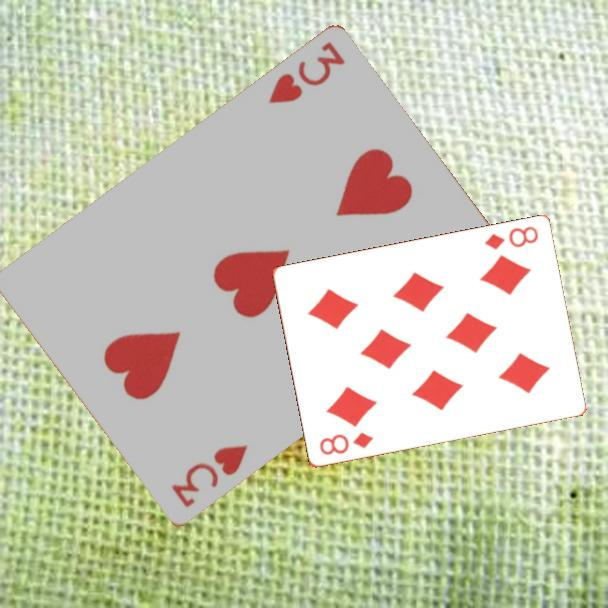d08: (480, 223, 541, 253), (316, 429, 376, 458)
h03: (264, 38, 349, 108), (167, 441, 251, 511)
